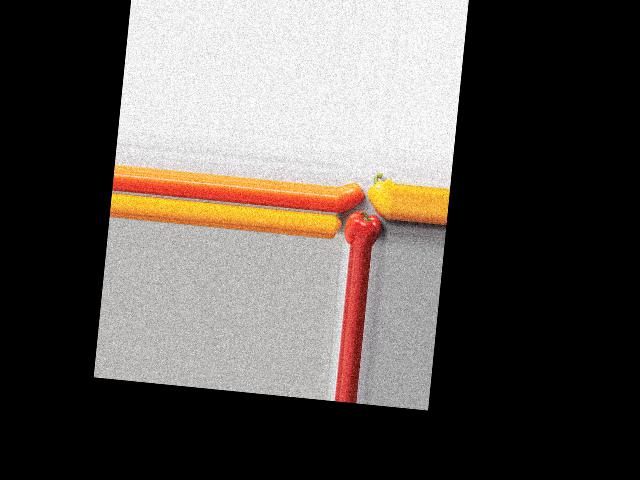bell_pepper: (342, 209, 384, 247)
